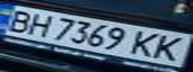3: (66, 18, 90, 46)
6: (87, 21, 109, 50)
7: (48, 15, 75, 43)
9: (103, 24, 133, 53)
B: (0, 7, 39, 34)
H: (18, 11, 57, 38)
K: (145, 34, 190, 63), (124, 28, 163, 58)
